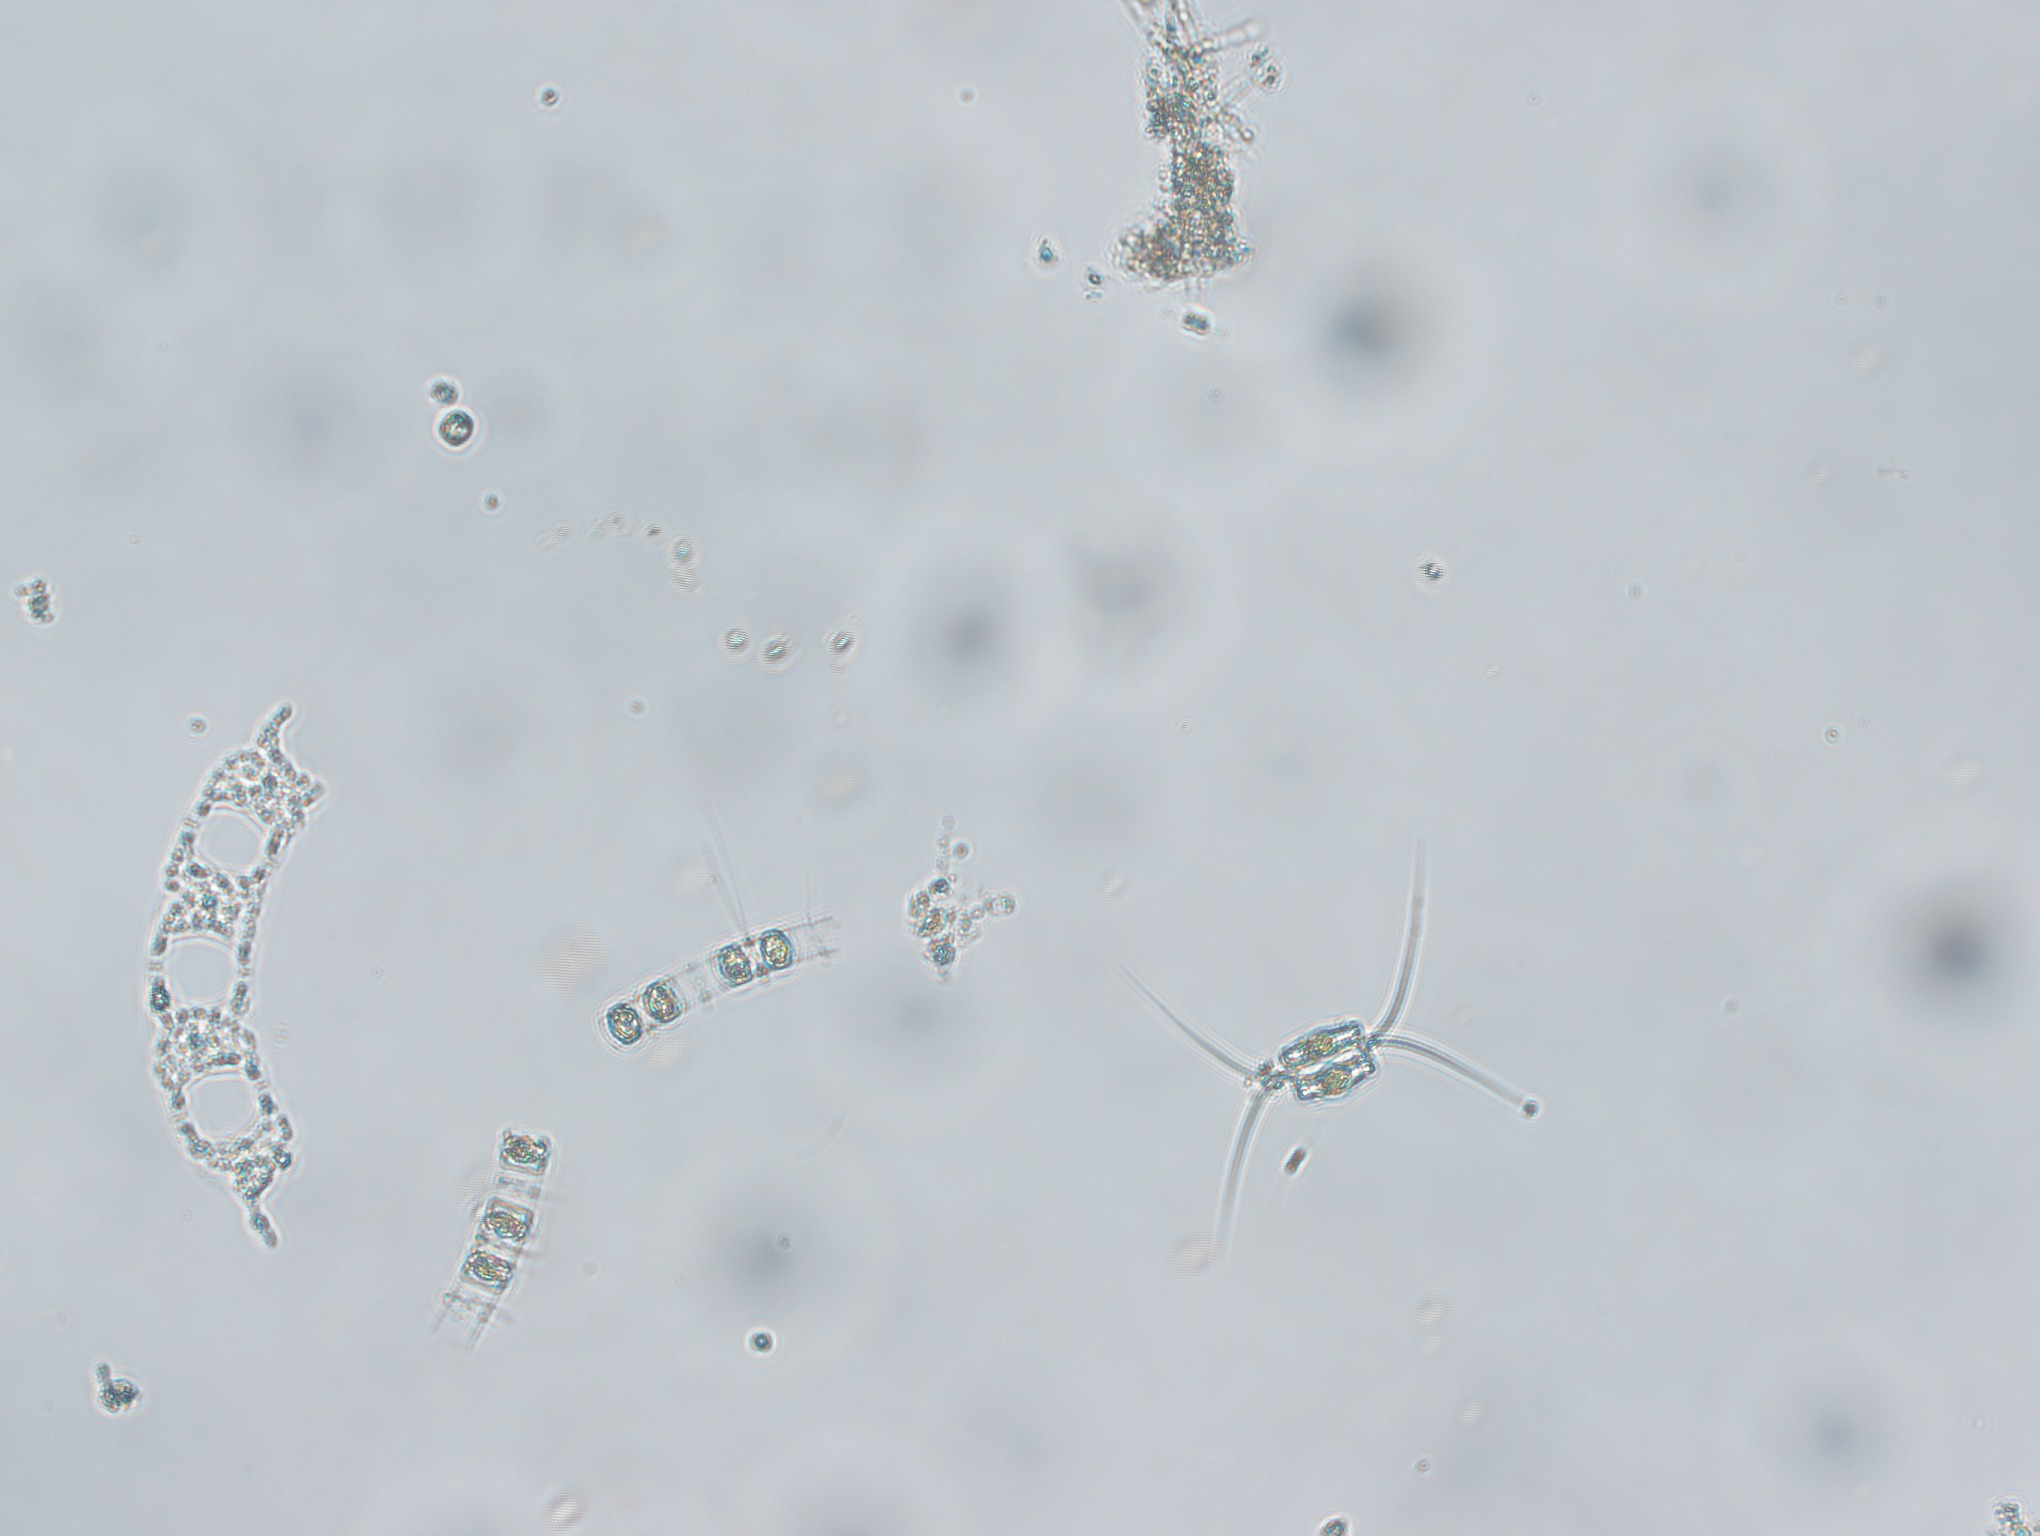chaetoceros: (1113, 870, 1566, 1250), (574, 855, 864, 1076), (427, 1125, 571, 1367)
eucampia: (144, 707, 355, 1276)
